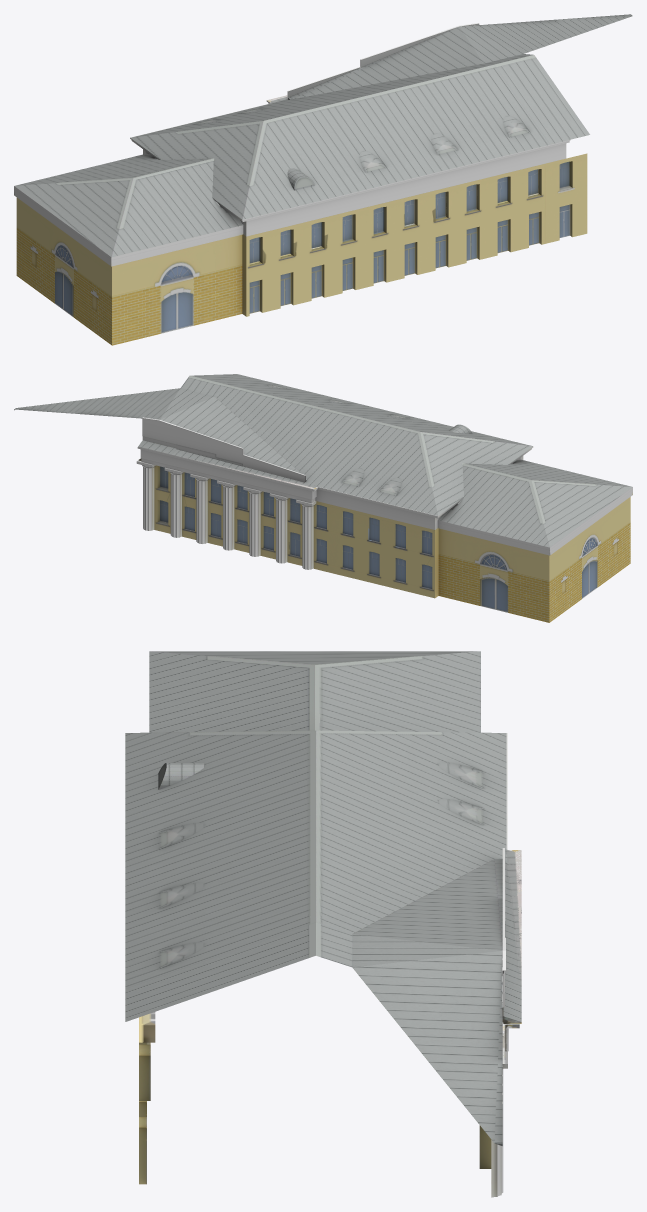
Rendered from EkaterinoslavskayaSukonnayaFabric_es_h+es_l.gltf.
3 views of the same model, one above another, from view 1: azimuth 30°, elevation 25°; view 2: azimuth 150°, elevation 25°; view 3: azimuth 270°, elevation 25° (orthographic). The views are drawn at different scales.
Parts seen in each view (by area): view 1: ddfe7c33-6e21-4a44-987f-ed73d40942d8; view 2: ddfe7c33-6e21-4a44-987f-ed73d40942d8; view 3: ddfe7c33-6e21-4a44-987f-ed73d40942d8.
Part boxes in pixels (x1,y1,x2,y2): ddfe7c33-6e21-4a44-987f-ed73d40942d8: (14, 14, 632, 345); ddfe7c33-6e21-4a44-987f-ed73d40942d8: (14, 374, 632, 622); ddfe7c33-6e21-4a44-987f-ed73d40942d8: (125, 651, 521, 1197).
Bounding box in the file's own units: 89.74 × 19.4 × 29.02.
Materials: 3 (3 with a texture image).
